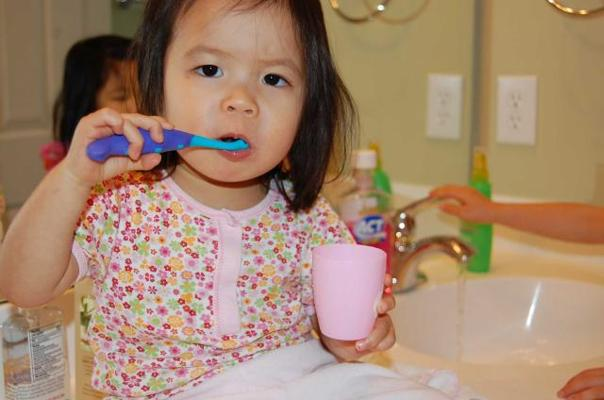person: (3, 2, 458, 400)
